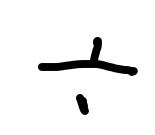div: (37, 34, 131, 116)
